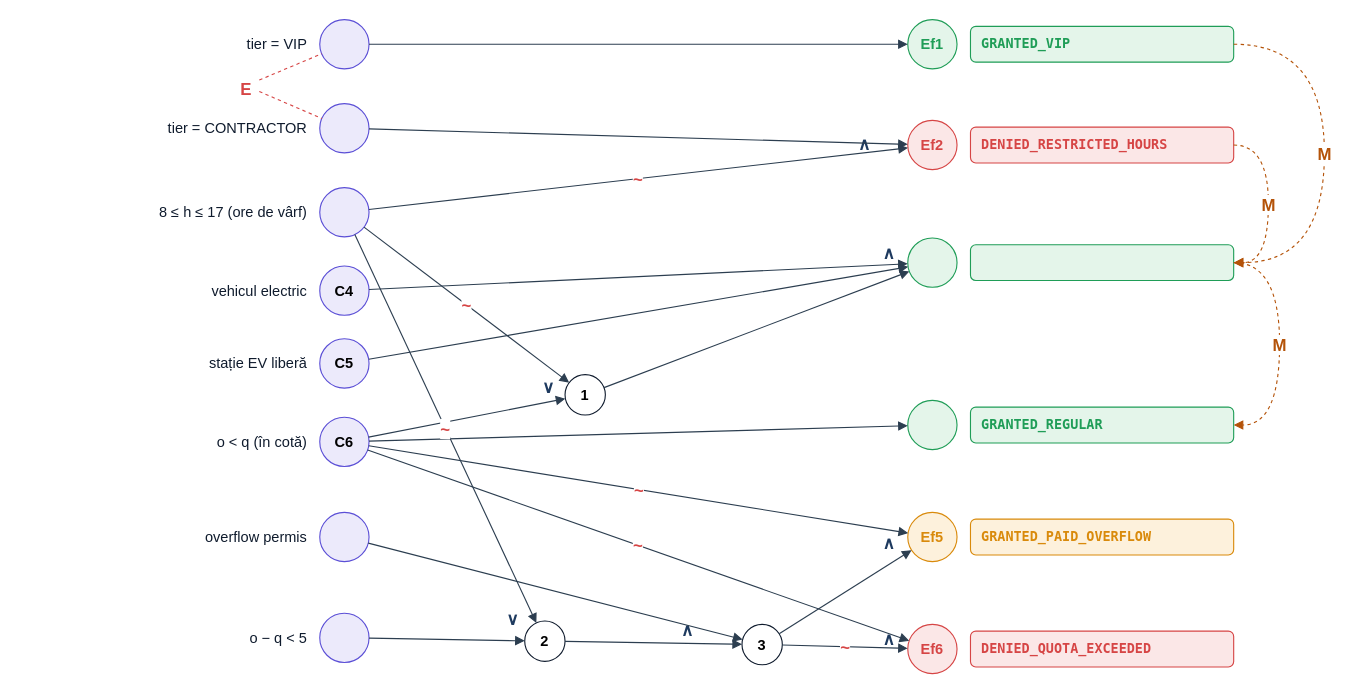
Image size: 1351x693. Some labels were removed from this diagram. Here are the shapes that lost their labels. From the top down, the box of each, then its label:
(319, 18, 369, 69): C1
(319, 102, 369, 153): C2
(319, 186, 369, 237): C3
(907, 237, 957, 287): Ef3
(969, 244, 1234, 281): GRANTED_EV_CHARGING
(907, 399, 957, 450): Ef4
(319, 511, 369, 562): C7
(319, 612, 369, 662): C8
